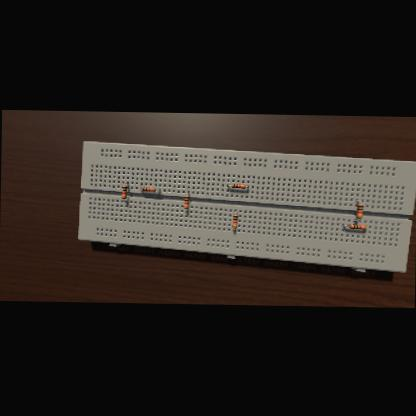breadboard: (77, 139, 416, 271)
resistor: (356, 203, 364, 218), (232, 213, 238, 228), (349, 223, 366, 228), (232, 183, 246, 188), (122, 185, 127, 198), (184, 194, 188, 209), (142, 186, 156, 190)
wire: (355, 200, 361, 203), (124, 182, 128, 184), (156, 188, 160, 190), (123, 198, 127, 200), (342, 224, 350, 225), (186, 191, 188, 194), (234, 210, 236, 213), (353, 218, 359, 219), (228, 184, 231, 185), (245, 185, 247, 186), (185, 209, 187, 210), (233, 228, 234, 230)
